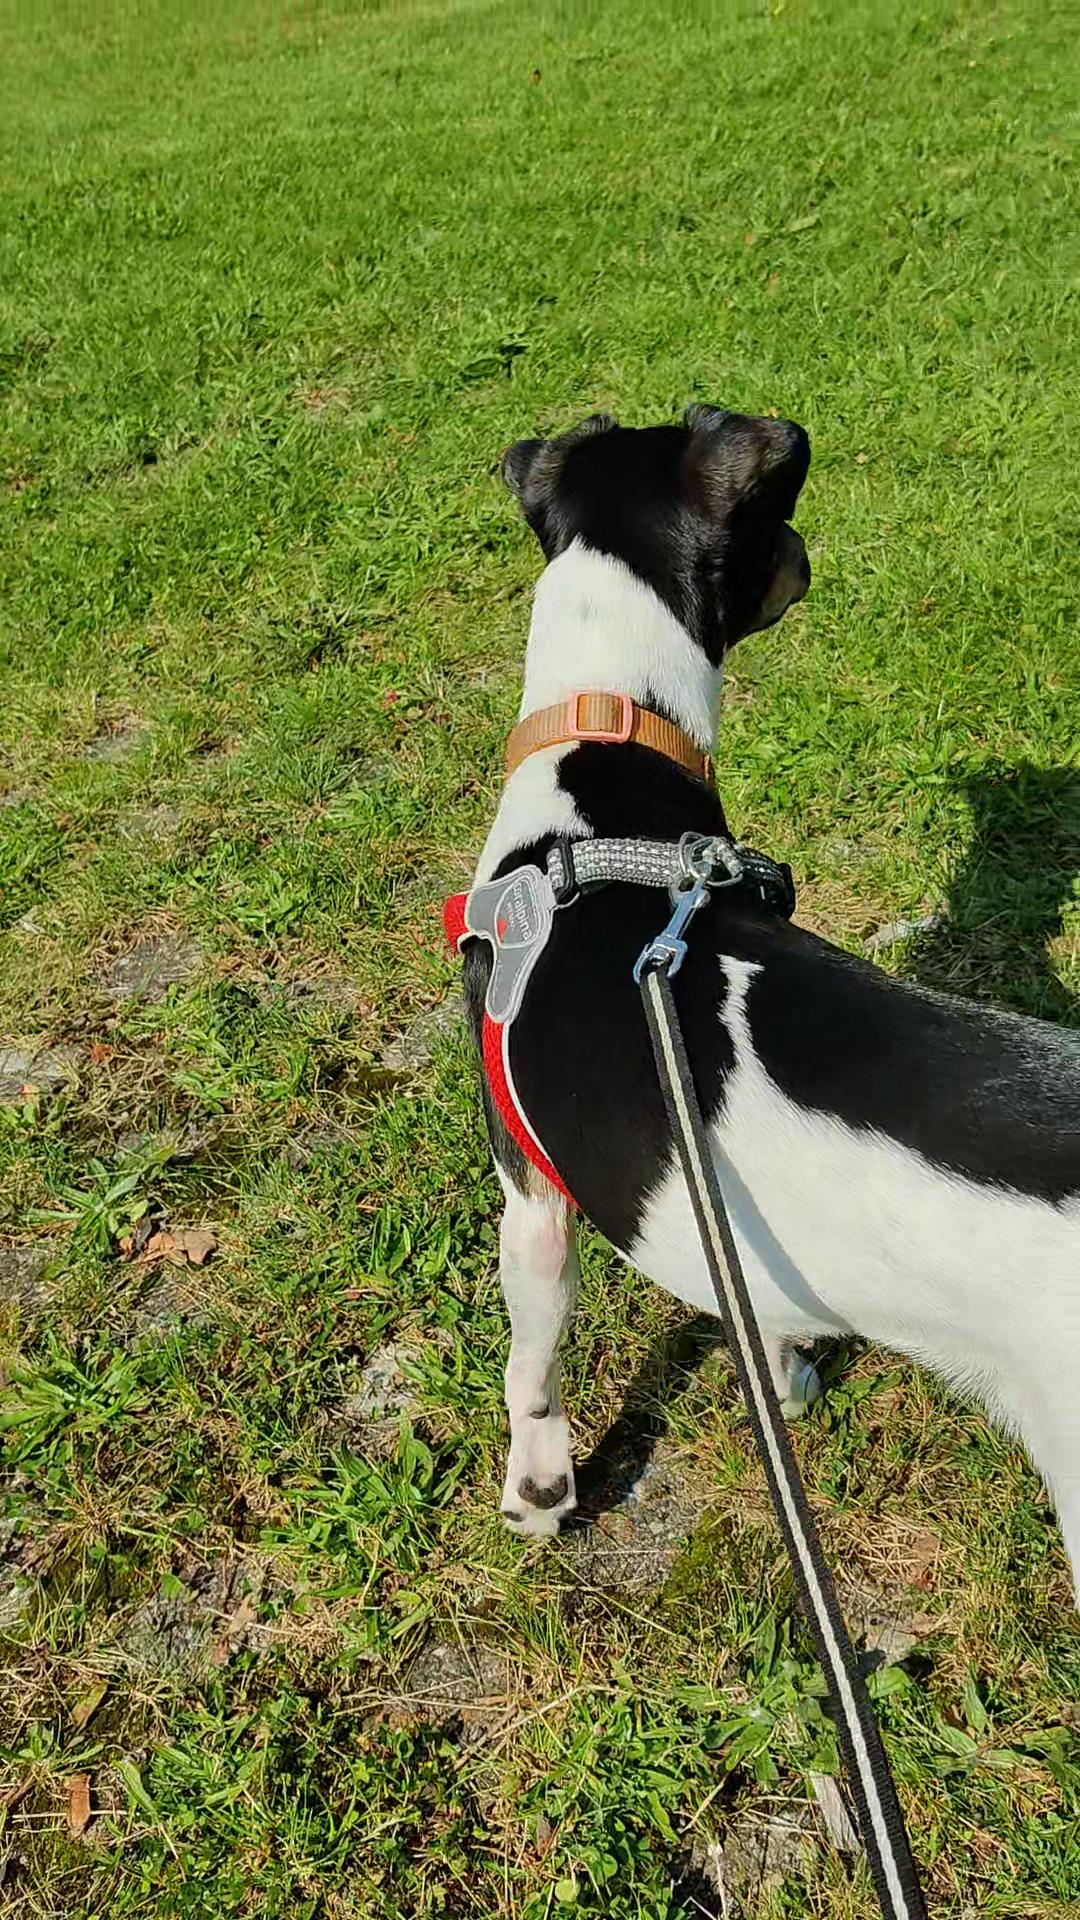Dog: (419, 392, 1079, 1626)
